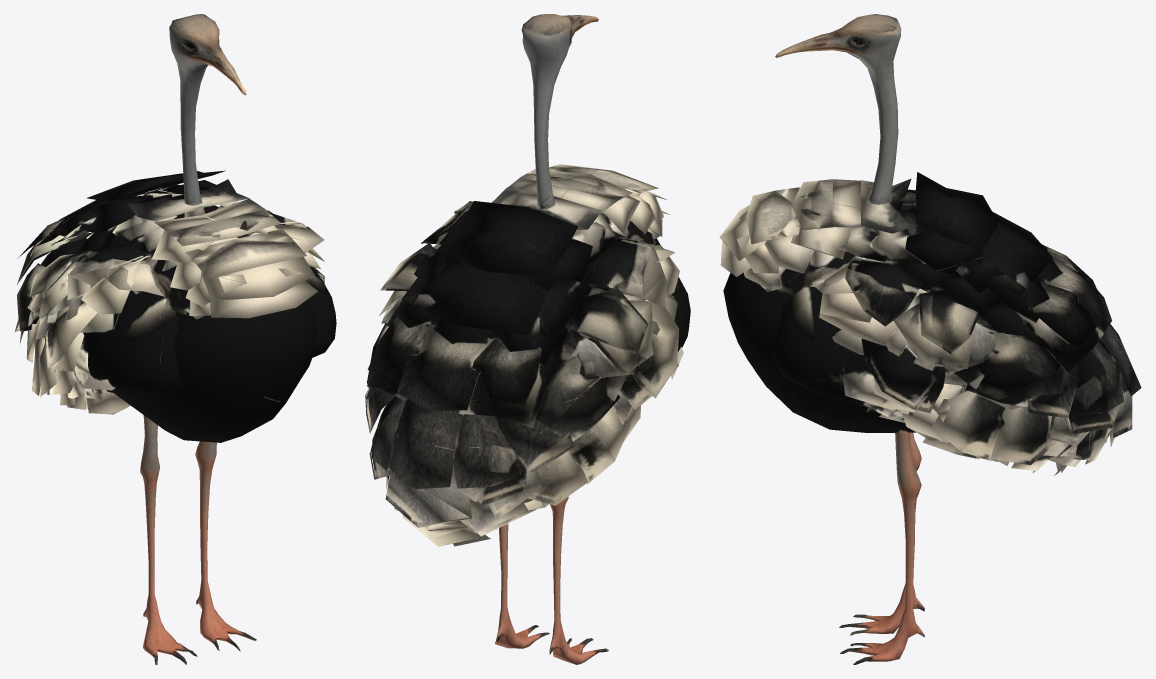
The model's file is common-ostrich.glb.
The picture shows the model from 3 angles, left to right: view 1: azimuth 30°, elevation 25°; view 2: azimuth 150°, elevation 25°; view 3: azimuth 270°, elevation 25°; orthographic projection.
Bounding box in the file's own units: 0.4434 × 1 × 0.6172.
Materials: 1 (1 with a texture image).
